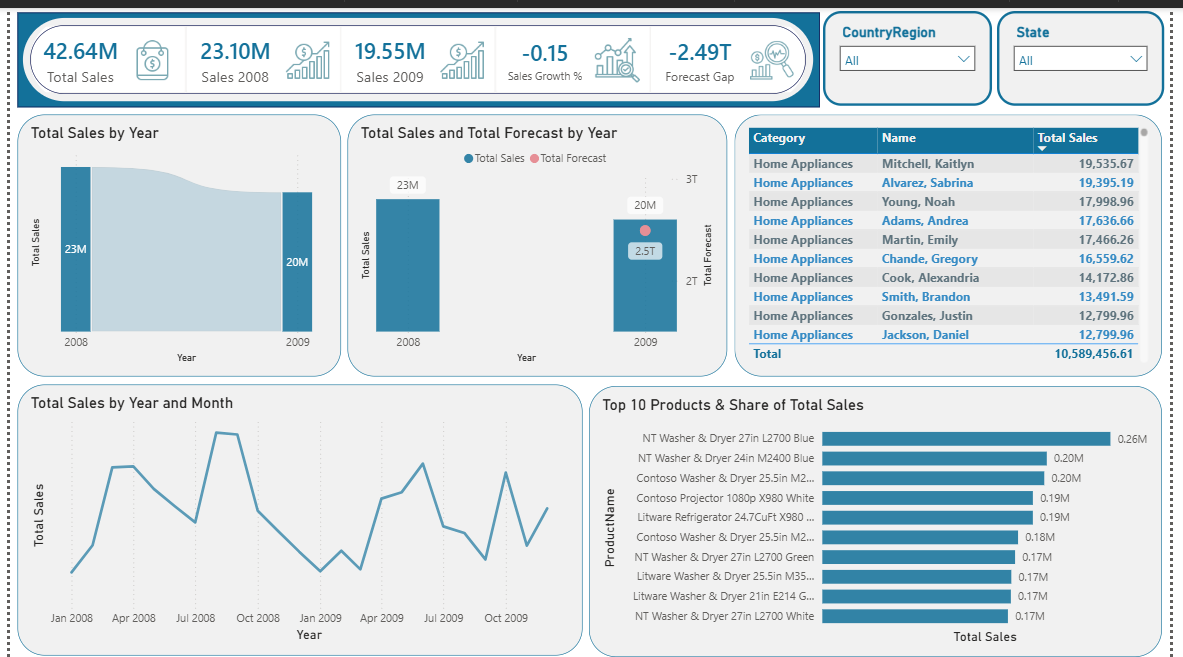

What the dashboard file says about the page in this screenshot:
{"tool":"powerbi","page":{"name":"Page 1","canvas":[1280,720],"ordinal":0},"visuals":[{"type":"ribbonChart","fields":{"Y":["fact_sales.Total Sales"],"Category":["dim_date.Year"]},"box":[8.6,118,357,289.1],"z":0},{"type":"cardVisual","fields":{"Data":["fact_sales.Total Sales","fact_sales.Sales 2008","fact_sales.Sales 2009","fact_sales.Sales Growth %","fact_forecast.Forecast Gap"]},"box":[8.6,5.1,886,104.3],"z":1000},{"type":"lineChart","fields":{"Y":["fact_sales.Total Sales"],"Category":["dim_date.YearMonth.Variation.Date Hierarchy.Year","dim_date.YearMonth.Variation.Date Hierarchy.Month"]},"box":[8.6,415.6,624.3,299.3],"z":2000},{"type":"clusteredBarChart","title":"Top 10 Products & Share of Total Sales","fields":{"Category":["dim_product.ProductName"],"Y":["fact_sales.Total Sales"]},"box":[639.7,417.4,632.9,299.3],"z":3000},{"type":"lineClusteredColumnComboChart","fields":{"Y":["fact_sales.Total Sales"],"Y2":["fact_forecast.Total Forecast"],"Category":["dim_date.Year"]},"box":[372.9,118,419.1,289.1],"z":4000},{"type":"tableEx","fields":{"Values":["dim_product.Category","dim_customer.Name","fact_sales.Total Sales"]},"box":[800.5,118,472,289.1],"z":5000},{"type":"slicer","fields":{"Values":["dim_geography.CountryRegion"]},"box":[898,3.4,186.4,104.3],"z":6000},{"type":"slicer","fields":{"Values":["dim_geography.State"]},"box":[1089.6,3.4,184.7,104.3],"z":7000}]}

Visuals, with their boxes in screenshot pixels (x1, y1, x2, y2), scaled from the page's 1280x720 canvas onto the 1183x657 screenshot:
ribbonChart - fact_sales.Total Sales x dim_date.Year: <bbox>8, 108, 338, 371</bbox>
cardVisual - fact_sales.Total Sales x fact_sales.Sales 2008: <bbox>8, 5, 827, 100</bbox>
lineChart - fact_sales.Total Sales x dim_date.YearMonth.Variation.Date Hierarchy.Year: <bbox>8, 379, 585, 652</bbox>
"Top 10 Products & Share of Total Sales" clusteredBarChart: <bbox>591, 381, 1176, 654</bbox>
lineClusteredColumnComboChart - fact_sales.Total Sales x fact_forecast.Total Forecast: <bbox>345, 108, 732, 371</bbox>
tableEx - dim_product.Category x dim_customer.Name: <bbox>740, 108, 1176, 371</bbox>
slicer - dim_geography.CountryRegion: <bbox>830, 3, 1002, 98</bbox>
slicer - dim_geography.State: <bbox>1007, 3, 1178, 98</bbox>
